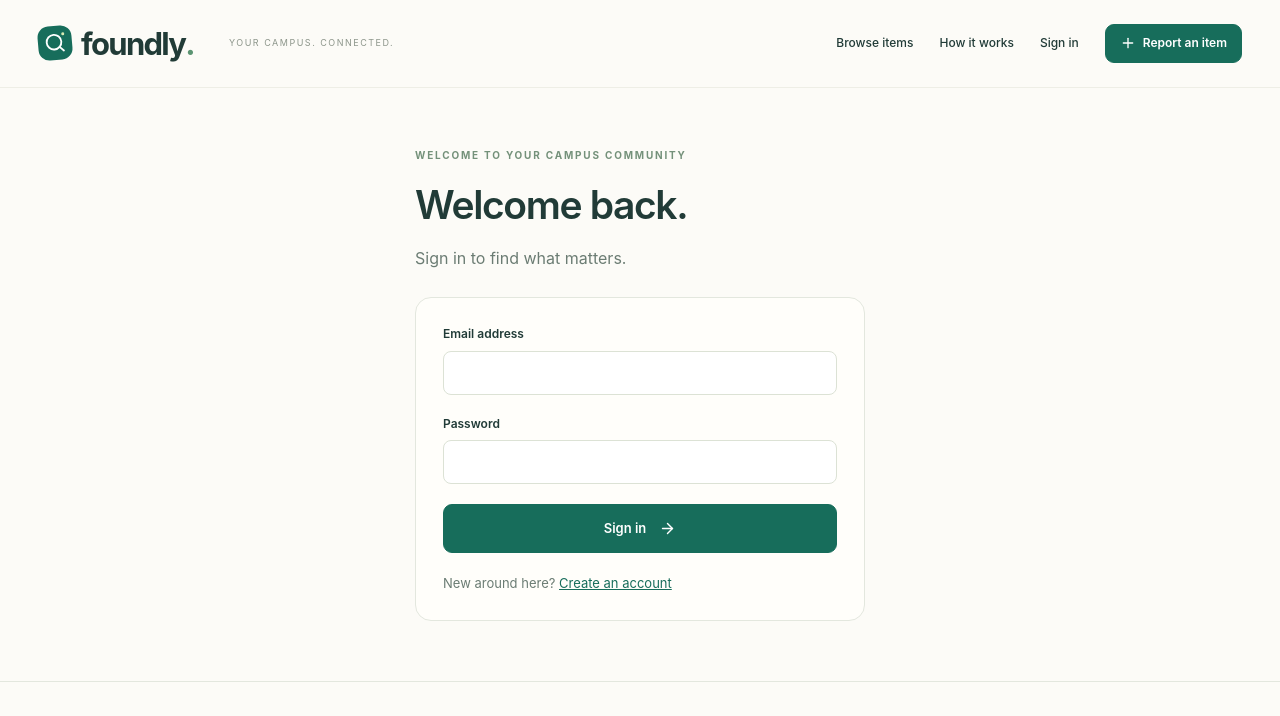
Test: Foundly user interactions › shows a server authentication error without navigating away
Type "student@example.test" into the field labelled "Email address". click: (640, 373)
box: [443,350,837,395]
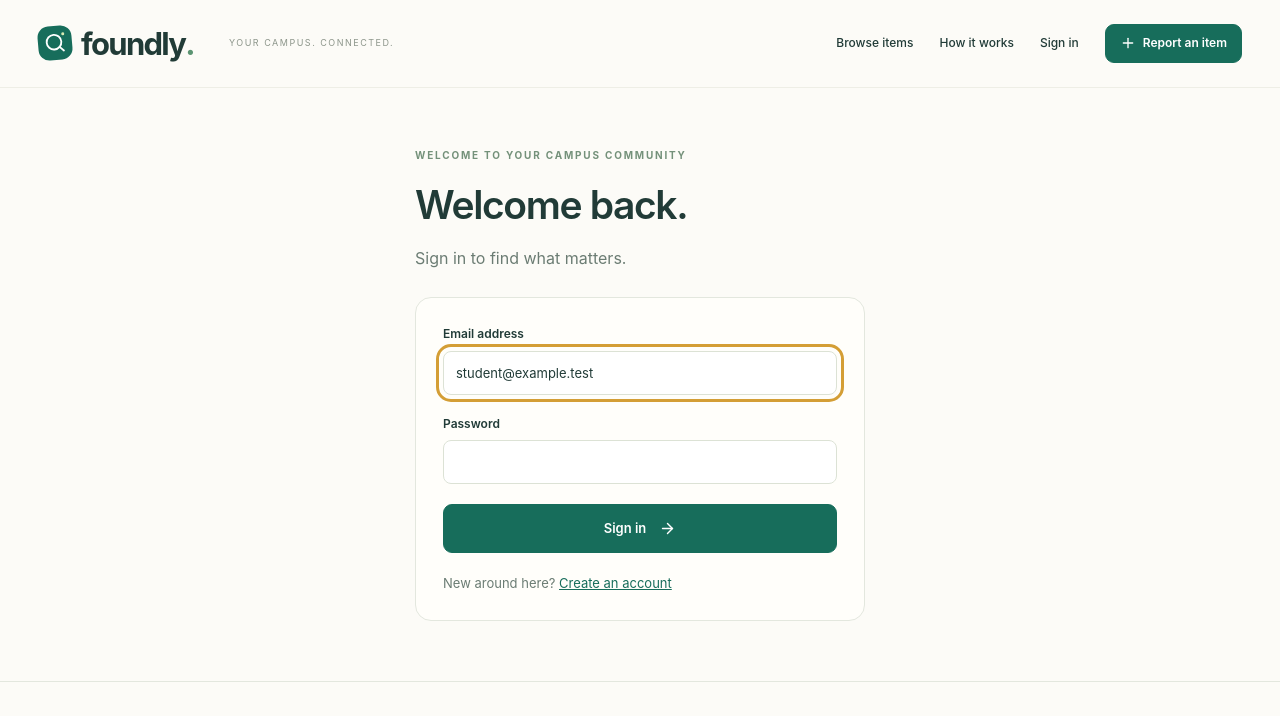
Type "long-test-password" into the password field labelled "Password". click: (640, 462)
box: [443,440,837,484]
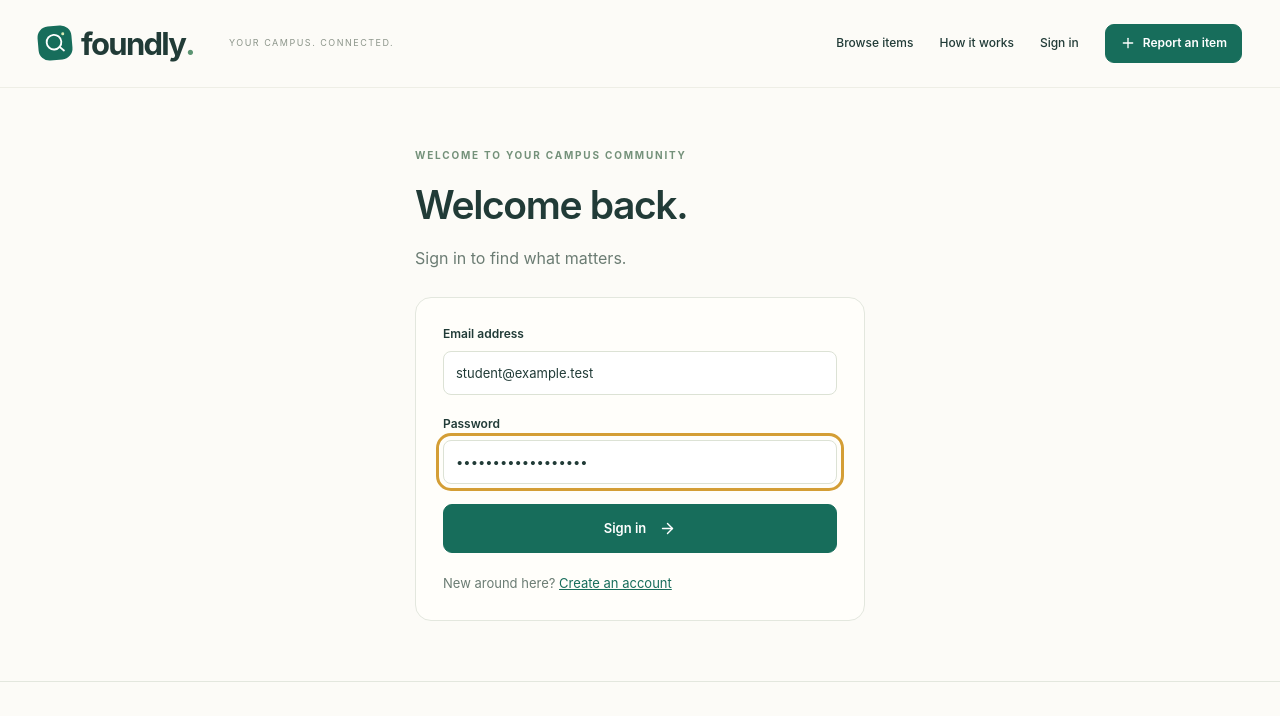
Click the button "Sign in". click: (640, 528)
box: [443,504,837,553]
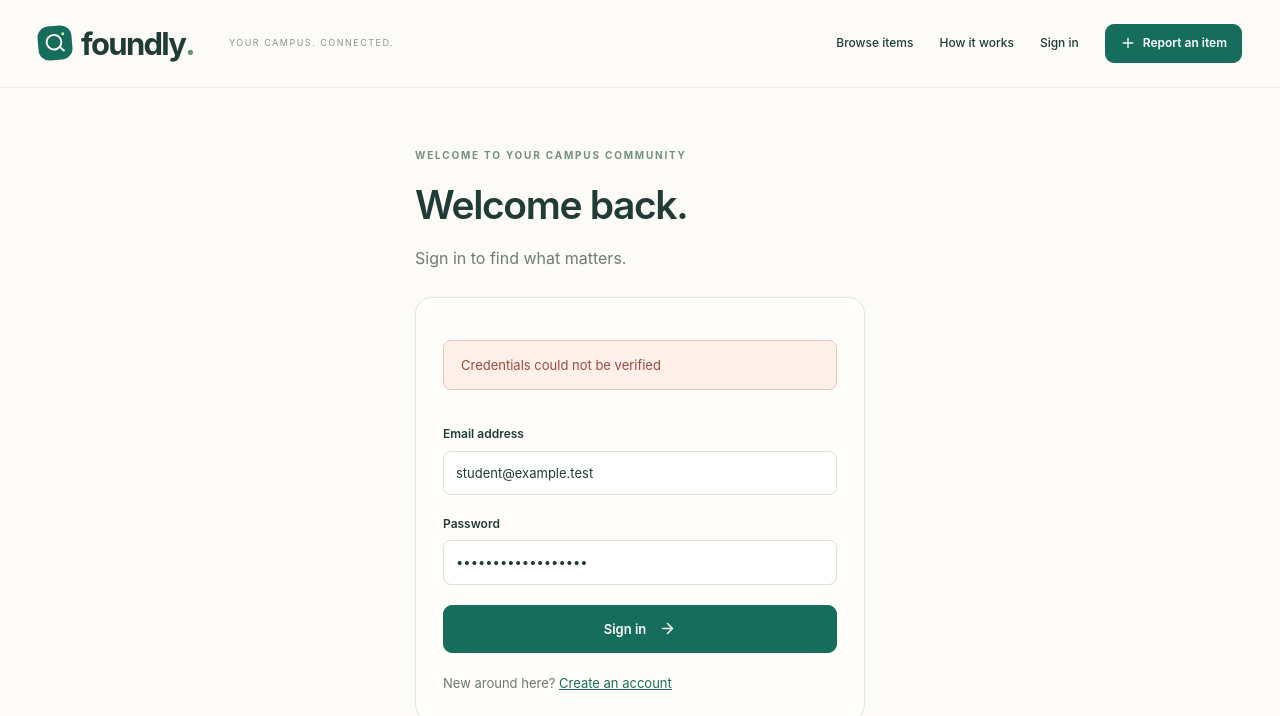
Expected: the button "Sign in" is enabled, [443,604,837,653]
Result: the message reads "Credentials could not be verified" at [461,357,661,373]
